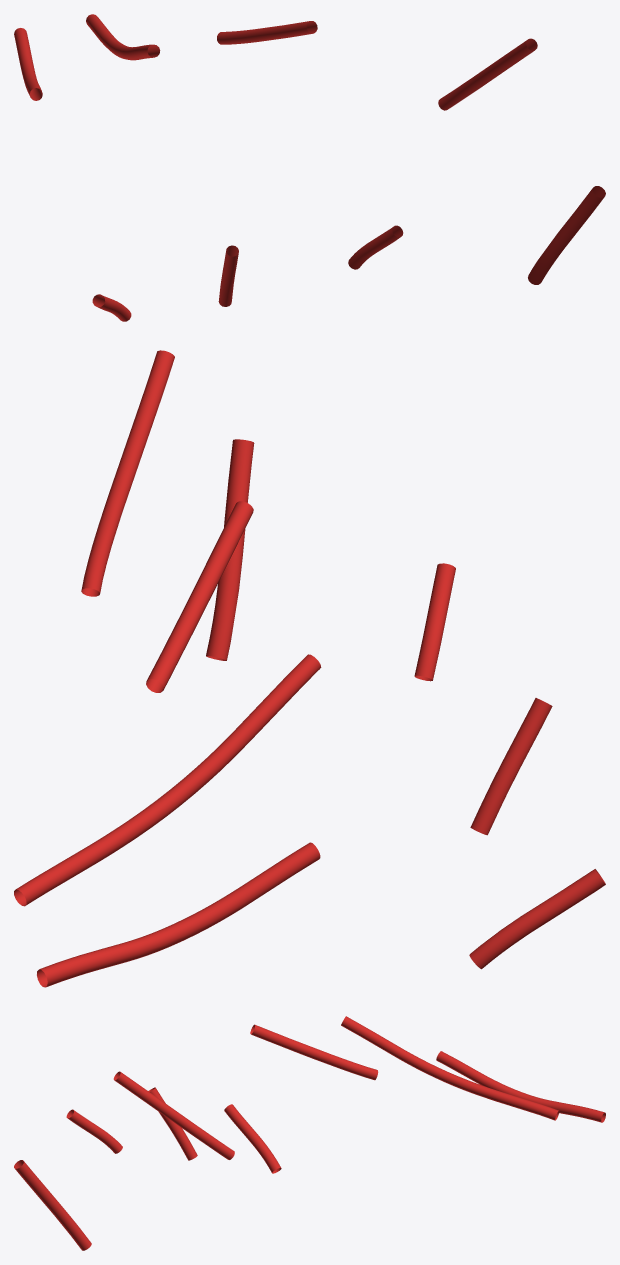
The model's file is circulatorio-perforating-branches-of-plantar-metatarsal-arteries-r.glb.
3 renders of one model, top to bottom at view 1: azimuth 30°, elevation 25°; view 2: azimuth 150°, elevation 25°; view 3: azimuth 270°, elevation 25°, orthographic. The views are drawn at different scales.
Parts seen in each view (by area): view 1: Perforating branches of plantar metatarsal arteries.r; view 2: Perforating branches of plantar metatarsal arteries.r; view 3: Perforating branches of plantar metatarsal arteries.r.
Part boxes in pixels (x1=…): Perforating branches of plantar metatarsal arteries.r: x1=14, y1=14, x2=605, y2=321; Perforating branches of plantar metatarsal arteries.r: x1=14, y1=350, x2=605, y2=987; Perforating branches of plantar metatarsal arteries.r: x1=14, y1=1016, x2=605, y2=1250.
Bounding box in the file's own units: 0.0401 × 0.0277 × 0.0658.
